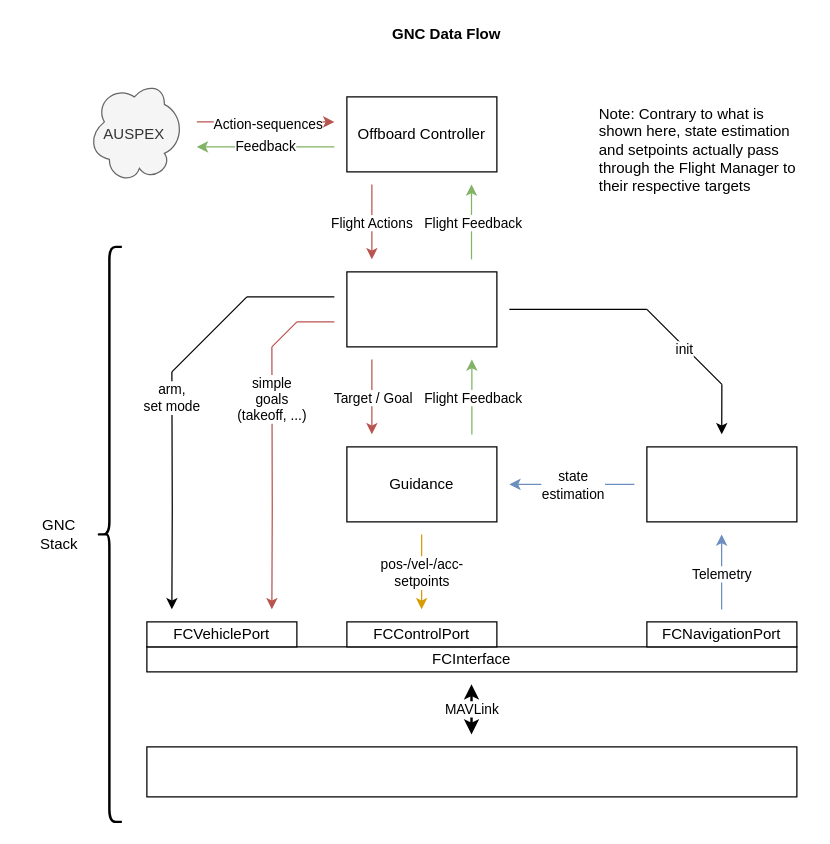
This 830x844 diagram has some shape labels left out. The shapes that lost their labels are listed below. From the top down, each one's centre as x and y in pixels, then its label:
At pixel 421 309: "Flight Manager".
At pixel 721 484: "Navigation".
At pixel 471 771: "Flight Controller".
